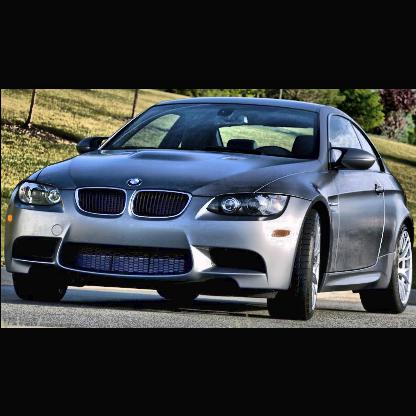BMW M3 Coupe 2012: (6, 97, 414, 322)
